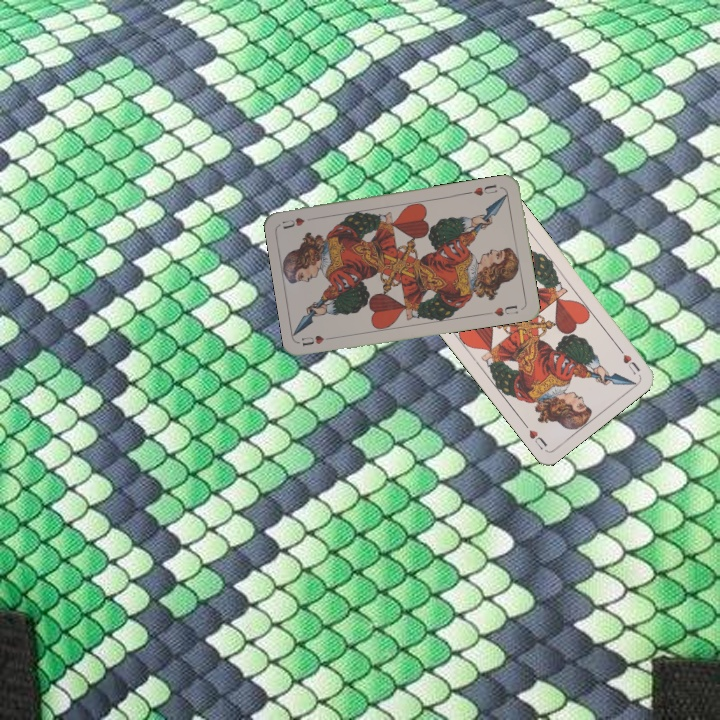HU: (613, 342, 643, 377), (298, 331, 338, 348), (464, 180, 500, 198)
